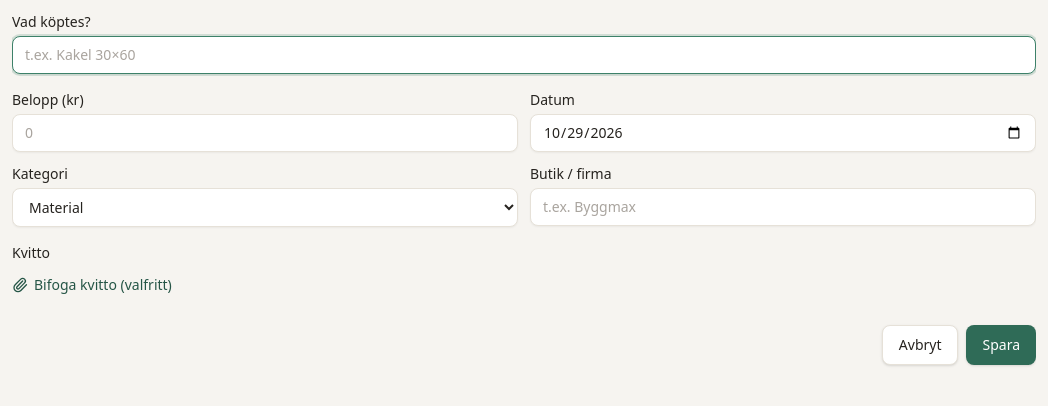
Test: ExpenseForm › visar fel vid ogiltigt belopp utan att anropa servern
Type "Färg" into the field labelled "Vad köptes?" at (524, 55), box [12,36,1036,74]
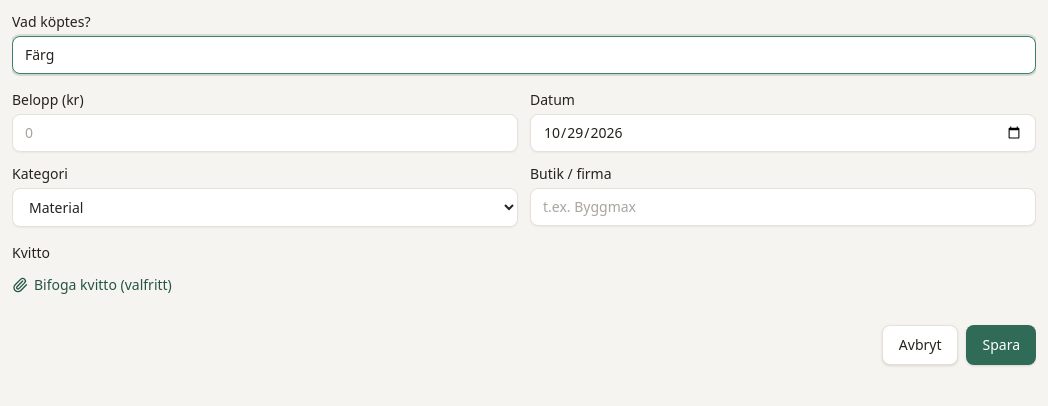
Type "tusen" into the field labelled "Belopp (kr)" at (265, 133), box [12,114,518,152]
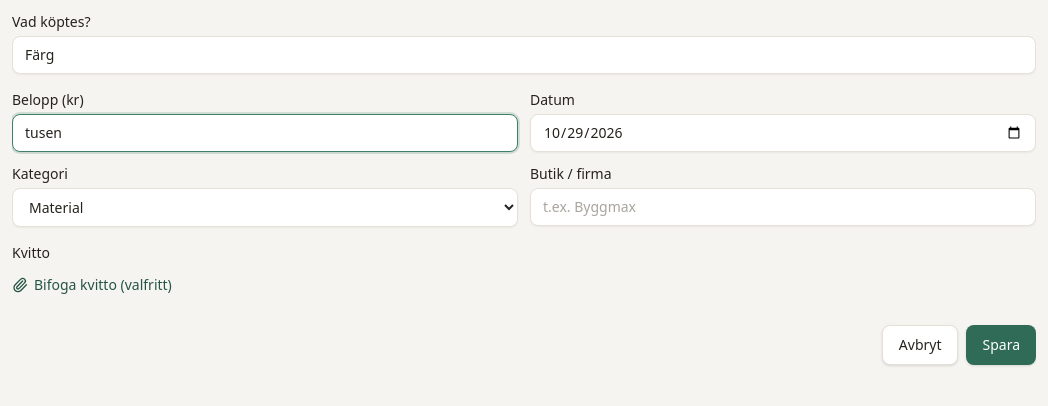
Click the button "Spara" at (1001, 345), box [966,325,1036,365]
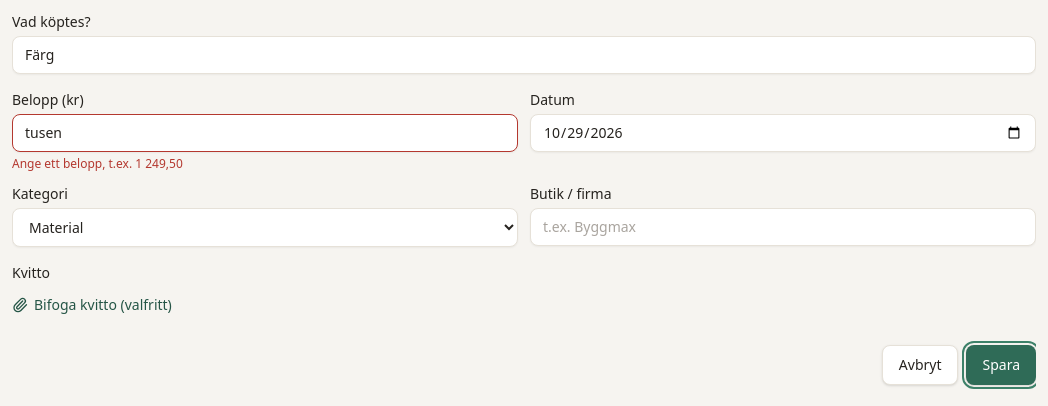
Expected: the text "Ange ett belopp, t.ex. 1 249,50" is shown, [12,155,183,172]
